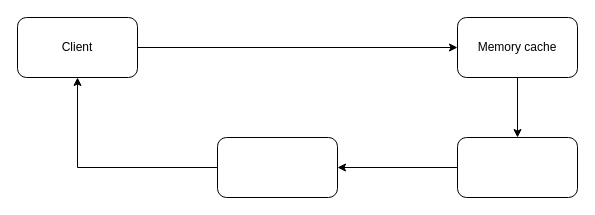
Some shapes in this 595 by 215 pixel diagram are drawn without their labels. Each missing label, with the centre of its shape:
Bloom filter: point 517,167
SSTable: point 277,167
